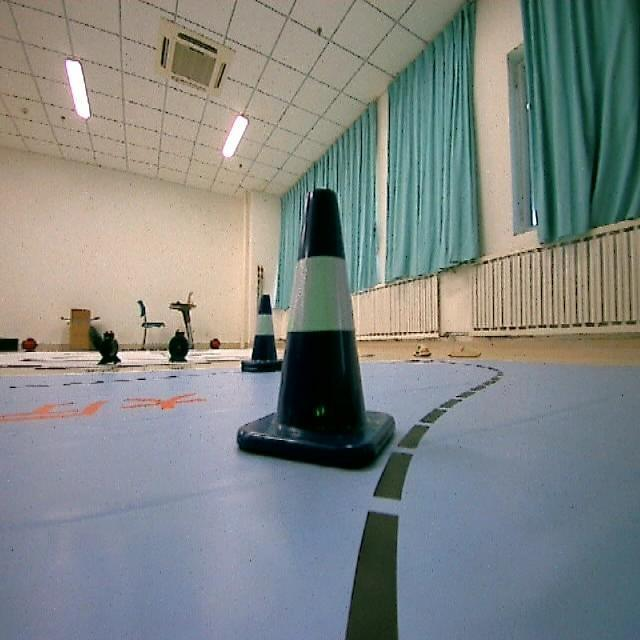obstacle: (234, 182, 403, 491), (235, 290, 286, 374)
